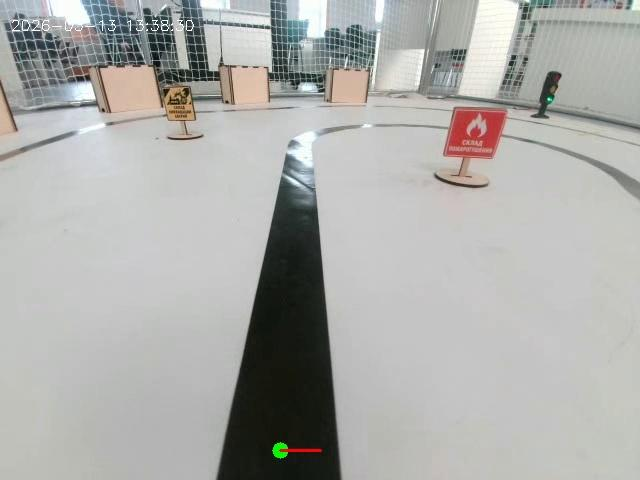fire: (442, 99, 508, 183)
industrial: (161, 74, 204, 156)
